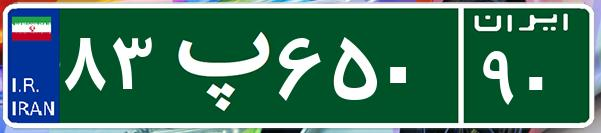0: (385, 28, 445, 110), (525, 38, 570, 115)
3: (110, 28, 158, 105)
5: (330, 28, 385, 110)
6: (273, 28, 330, 110)
8: (57, 26, 110, 107)
9: (475, 38, 525, 113)
پ: (158, 15, 273, 115)
